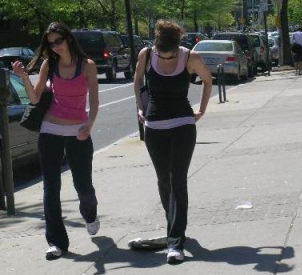person: (31, 23, 99, 237), (139, 19, 198, 246)
